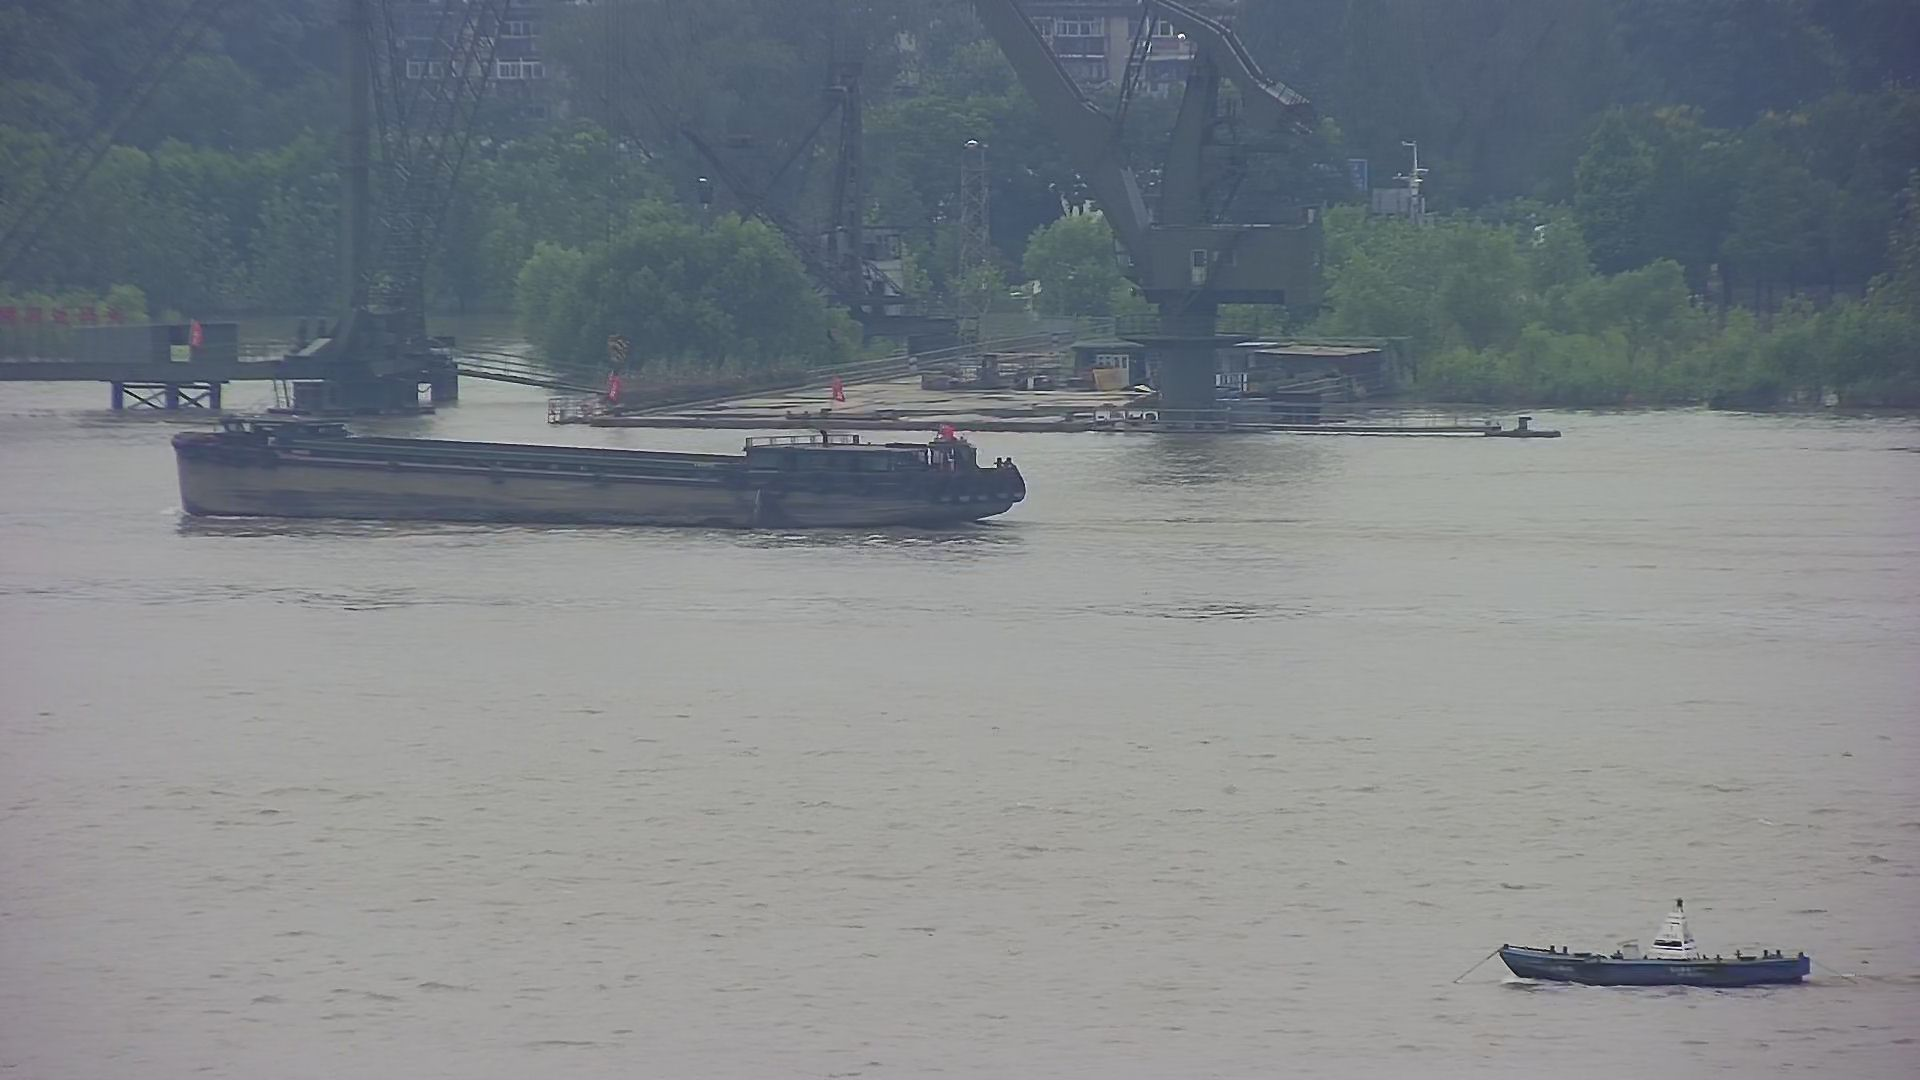boat: (1478, 882, 1840, 1007)
platform: (1, 1, 481, 415)
ship: (153, 400, 1071, 531)
